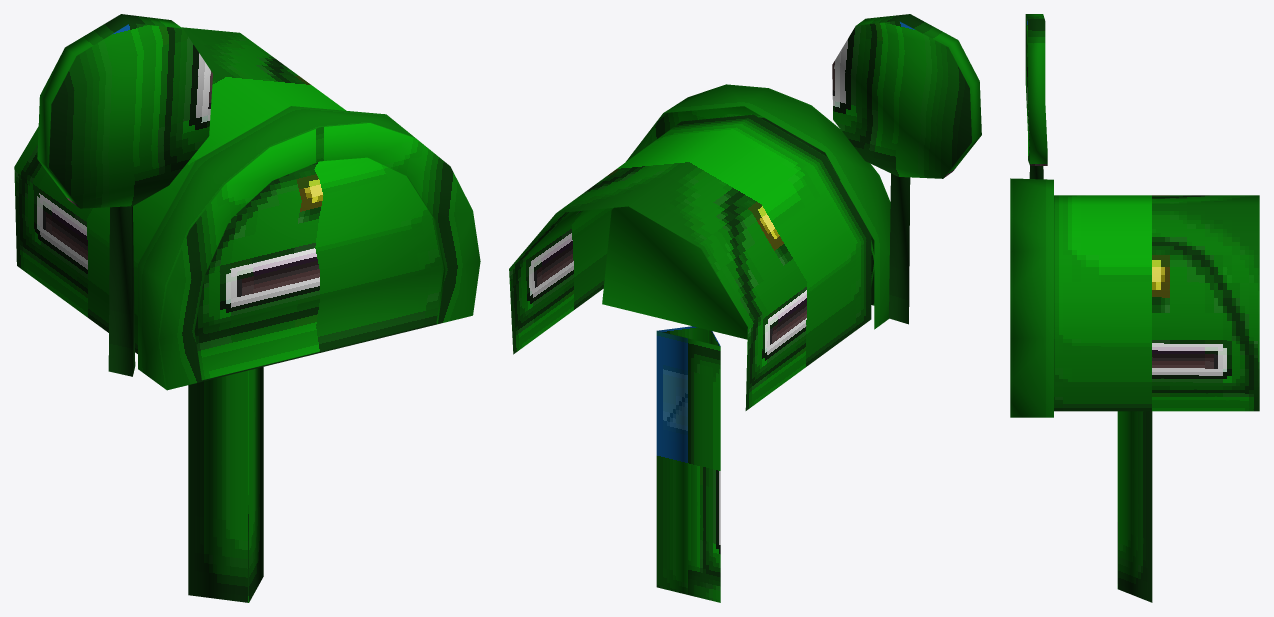
The model's file is int_post_A05.dae.
3 renders of one model, left to right at view 1: azimuth 30°, elevation 25°; view 2: azimuth 150°, elevation 25°; view 3: azimuth 270°, elevation 25°, orthographic. The views are drawn at different scales.
Parts seen in each view (by area): view 1: int_post_A05; view 2: int_post_A05; view 3: int_post_A05.
Part boxes in pixels (bbox=[...]): int_post_A05: bbox=[14, 14, 480, 602]; int_post_A05: bbox=[509, 14, 981, 602]; int_post_A05: bbox=[1010, 14, 1259, 602].
Size of the model in its own units: 26.36 by 39.85 by 17.89.
Materials: 1 (1 with a texture image).
